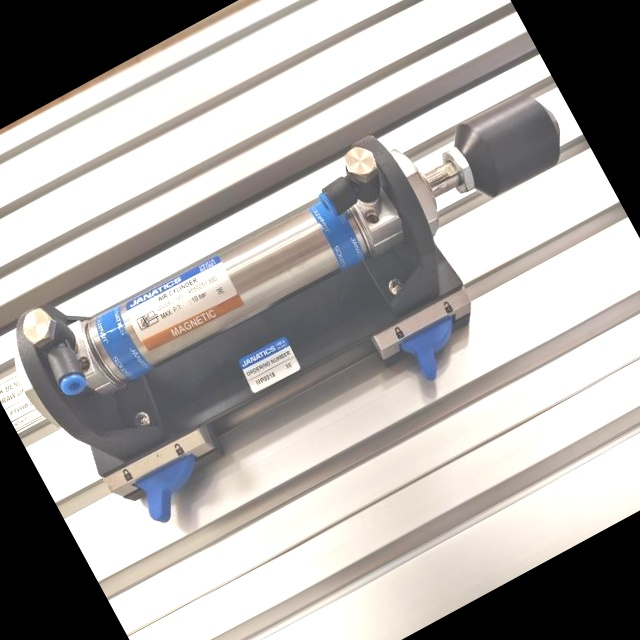double acting pneumatic cylinder: (0, 42, 638, 560)
push button: (0, 44, 637, 555)
